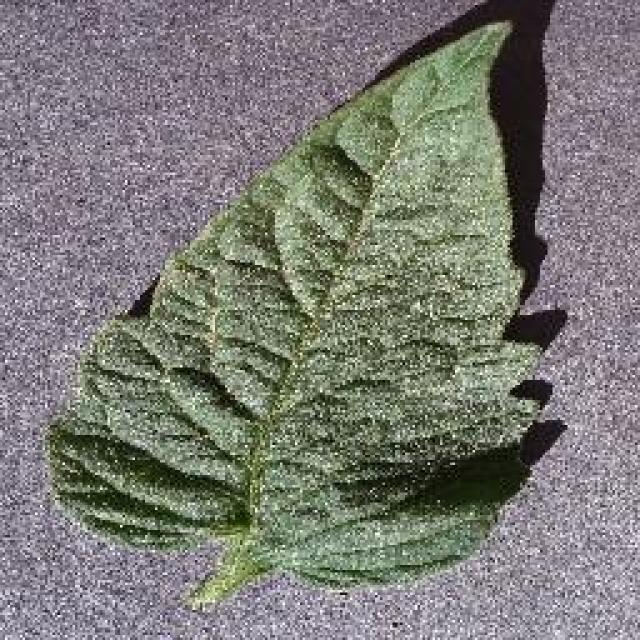Healthy: (28, 2, 562, 630)
